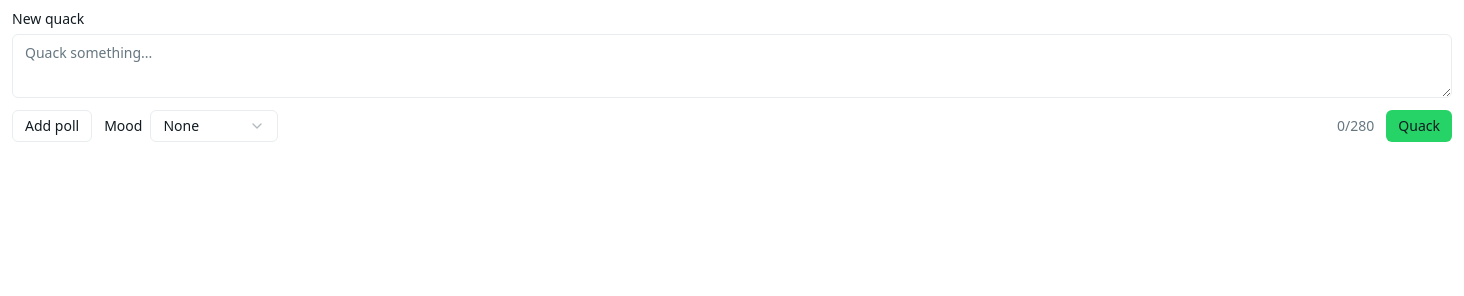
Test: QuackForm › starts the next quack without a mood
In the text box labelled "New quack": coordinates (732, 66) [12, 34, 1452, 98], type "Quack"
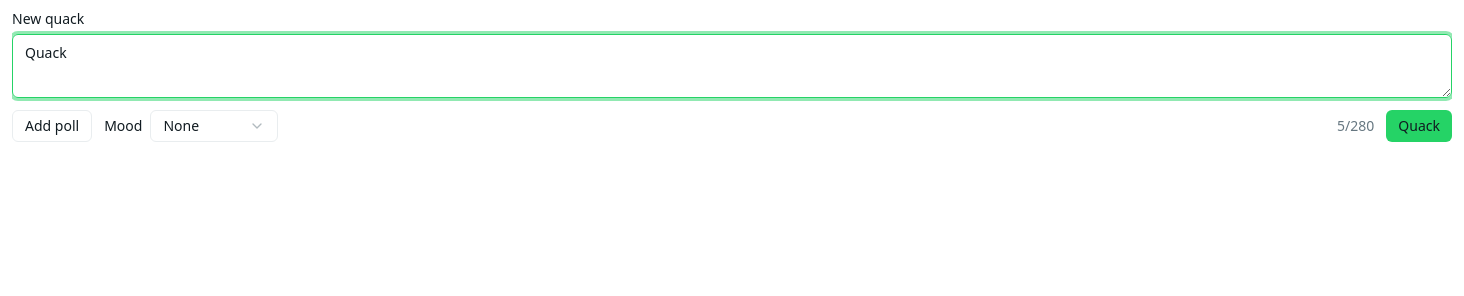
Click the dropdown named "Mood": coordinates (214, 126) [150, 110, 278, 142]
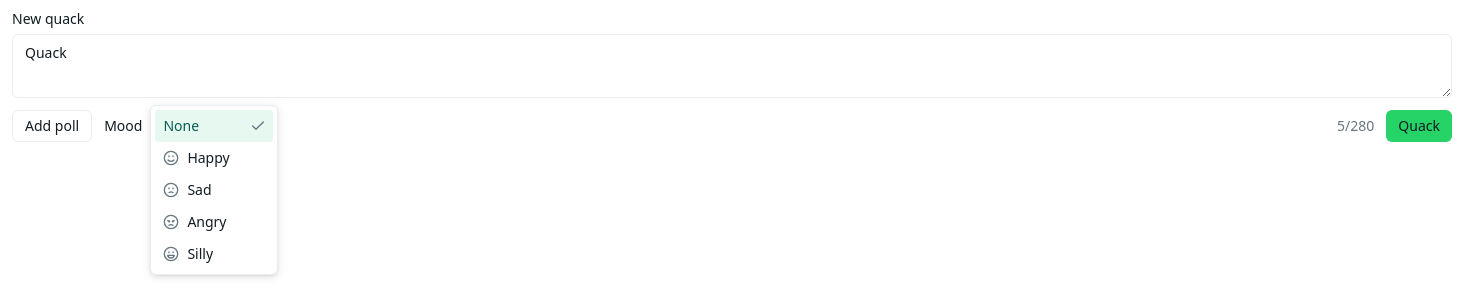
Click the option "Silly": coordinates (188, 254) [163, 244, 213, 263]
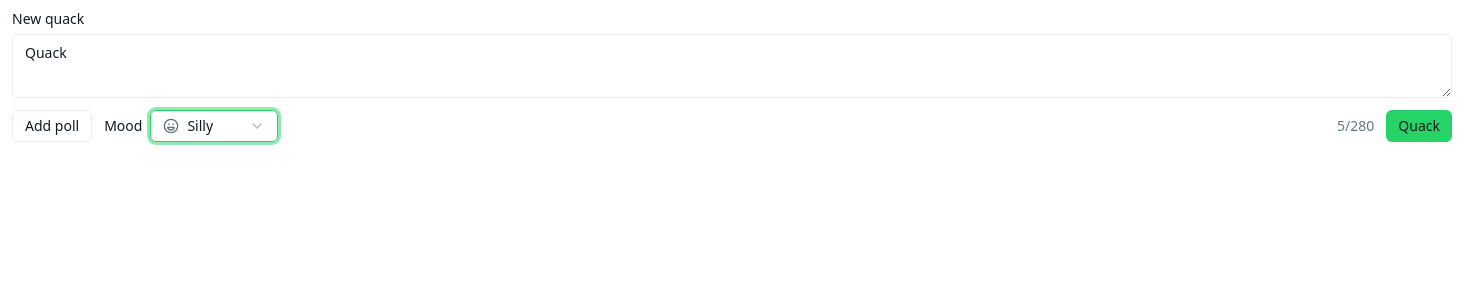
Result: the dropdown named "Mood" reads "Silly" at [150, 110, 278, 142]
Click the button "Quack": coordinates (1419, 126) [1386, 110, 1452, 142]
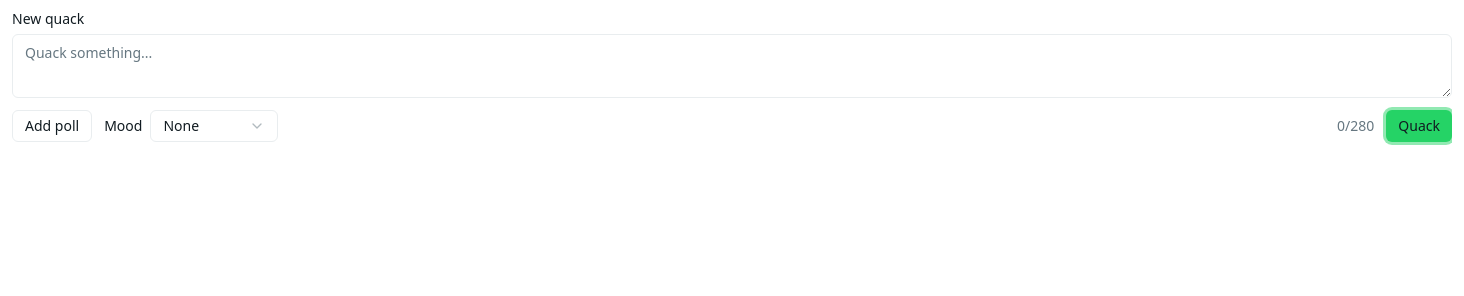
Result: the dropdown named "Mood" reads "None" at [150, 110, 278, 142]
